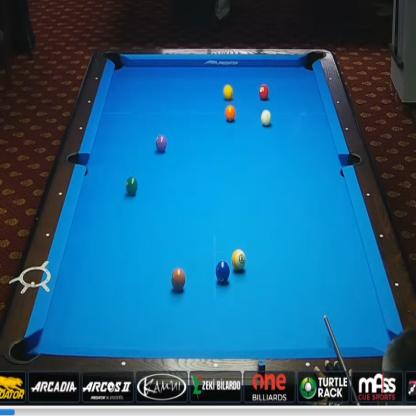Ball: (215, 260, 230, 283), (171, 268, 185, 291), (232, 249, 246, 271), (125, 176, 138, 195), (224, 105, 236, 122), (260, 109, 272, 126), (156, 135, 166, 152), (223, 84, 233, 100), (259, 84, 269, 99)
